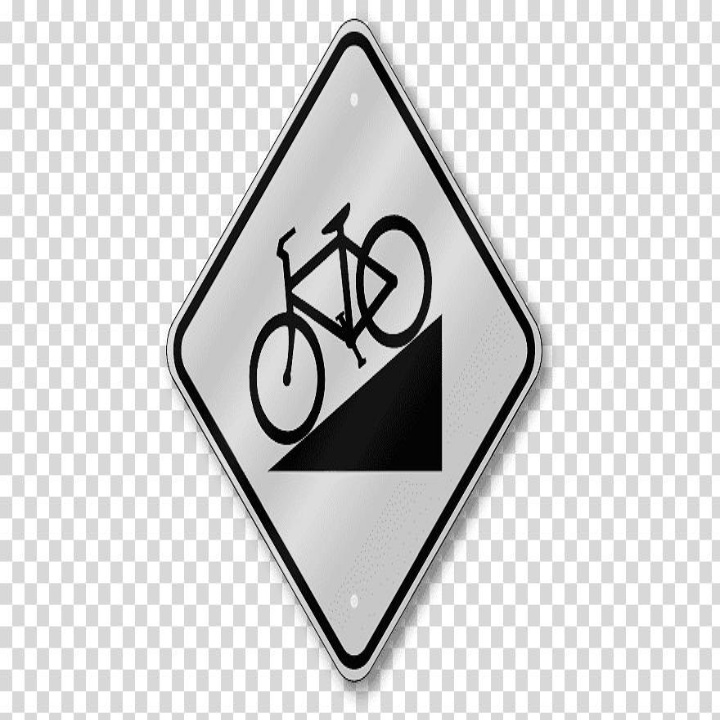bicycle: (246, 204, 432, 441)
